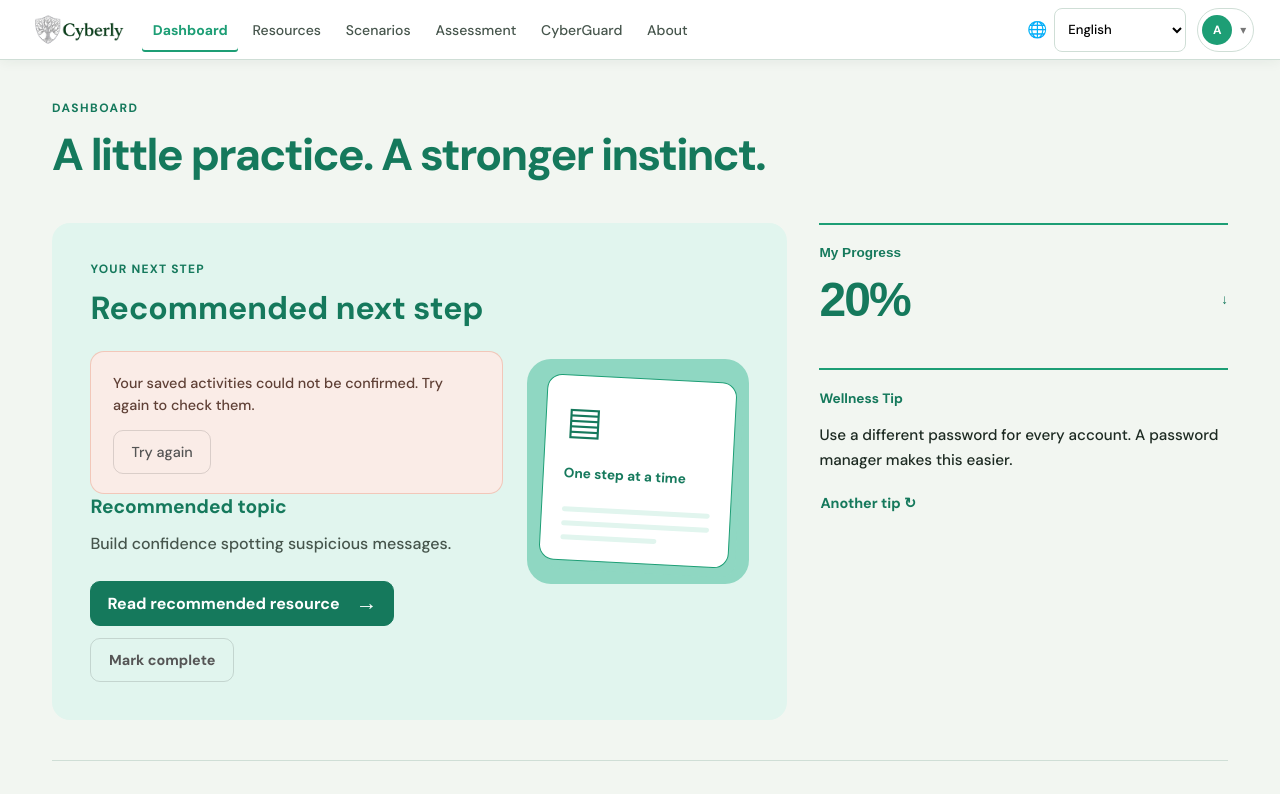
Test: Dashboard integrated Progress › failed completion preserves recorded progress and offers another explicit attempt
Click the button "Mark complete" at (162, 660), box top-left (90, 638), bottom-right (234, 682)
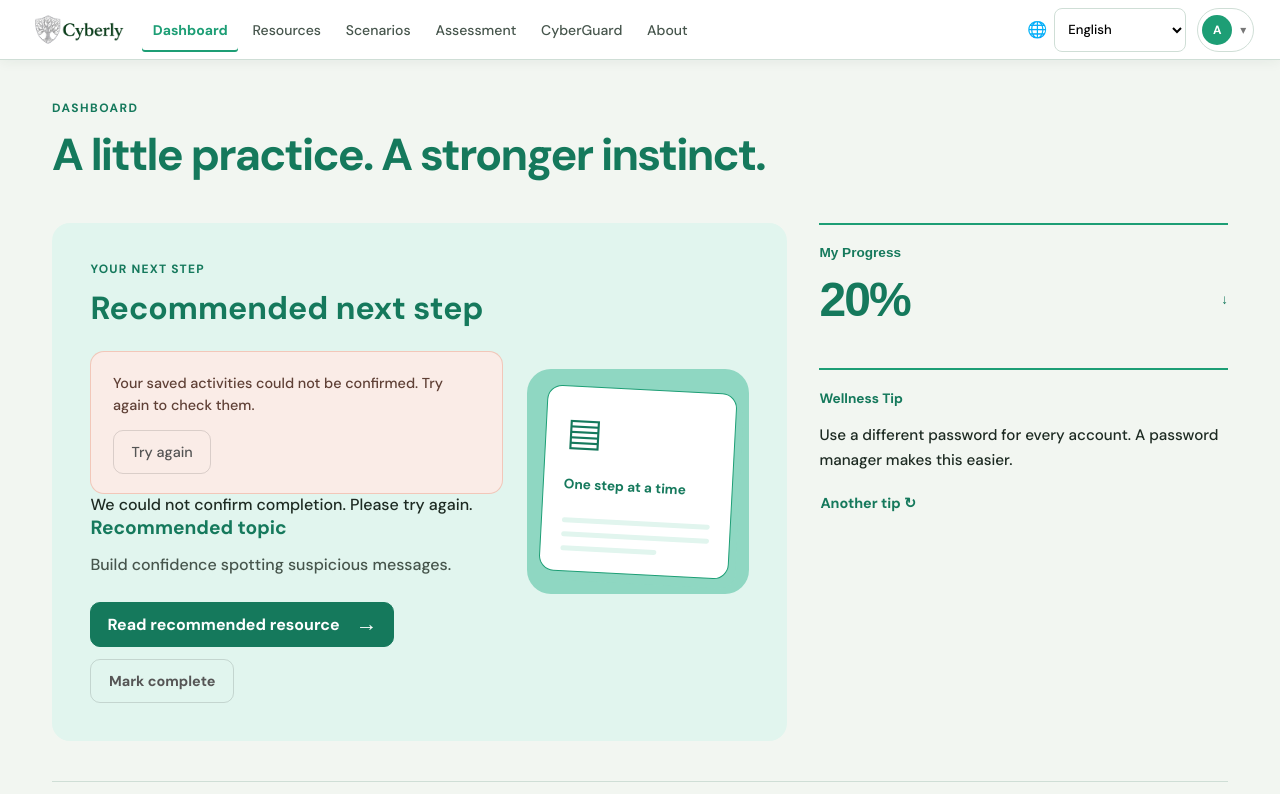
Expected: the button "Mark complete" is enabled, top-left (90, 659), bottom-right (234, 703)
Now the text "We could not confirm completion. Please try again." is shown, box top-left (90, 494), bottom-right (503, 515)
